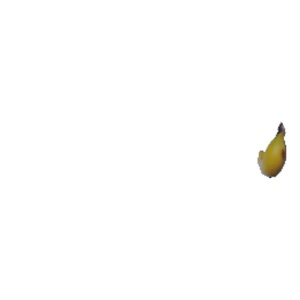banana: (249, 120, 293, 178)
